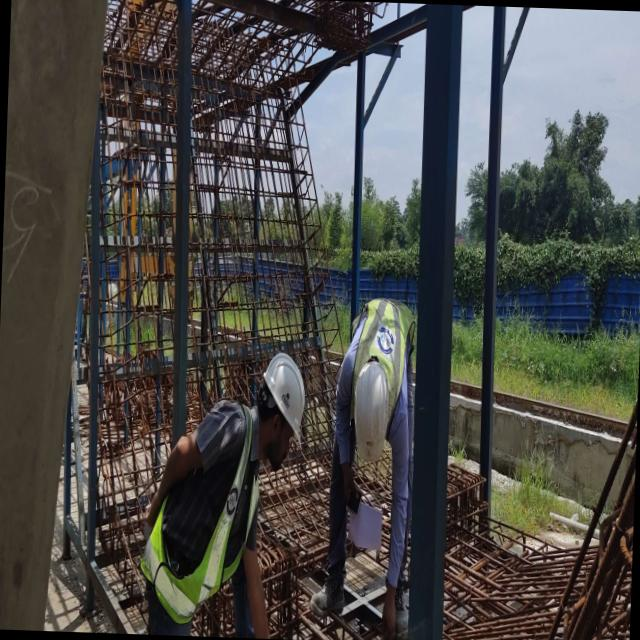cement: (492, 404, 619, 503), (43, 478, 117, 633), (449, 392, 480, 458)
grass: (494, 110, 640, 419), (452, 161, 488, 384), (492, 454, 573, 534), (361, 177, 421, 277), (322, 192, 353, 269)
